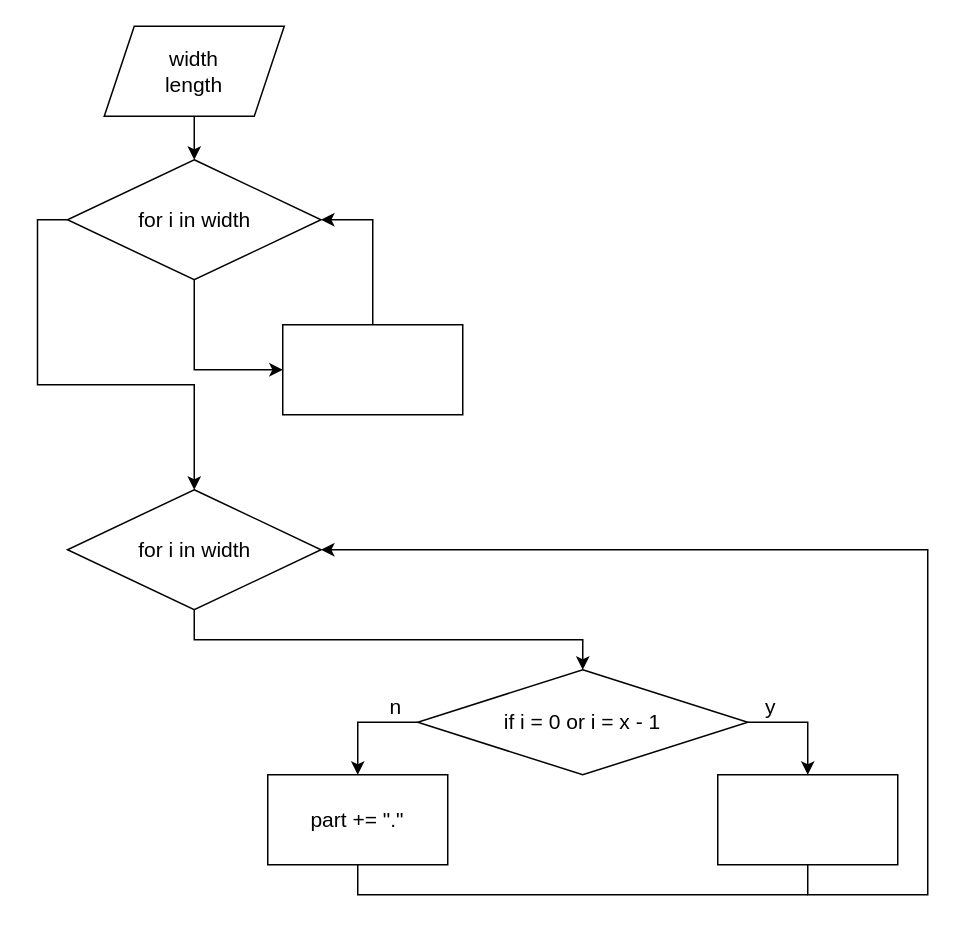
This 966x933 diagram has some shape labels left out. The shapes that lost their labels are listed below. From the top down, each one's centre as x and y in pixels, then its label:
(x=372, y=369): full += "#"
(x=807, y=819): part += "#"
